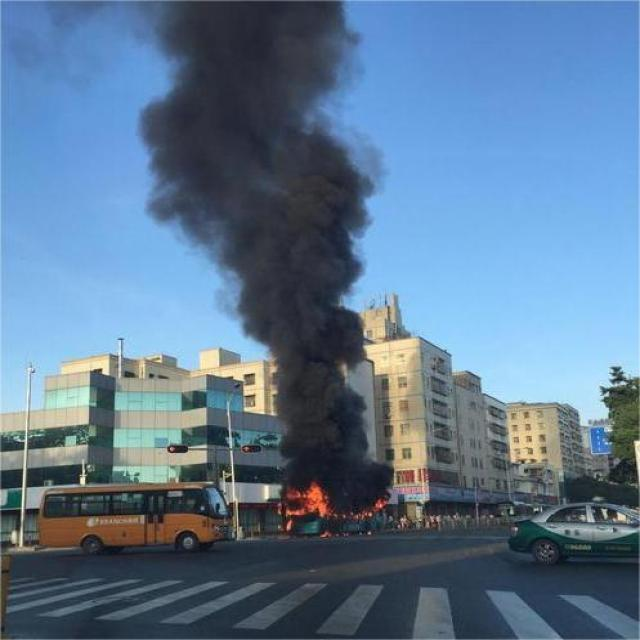Fire: (278, 484, 329, 524)
Smoke: (141, 0, 392, 482)
